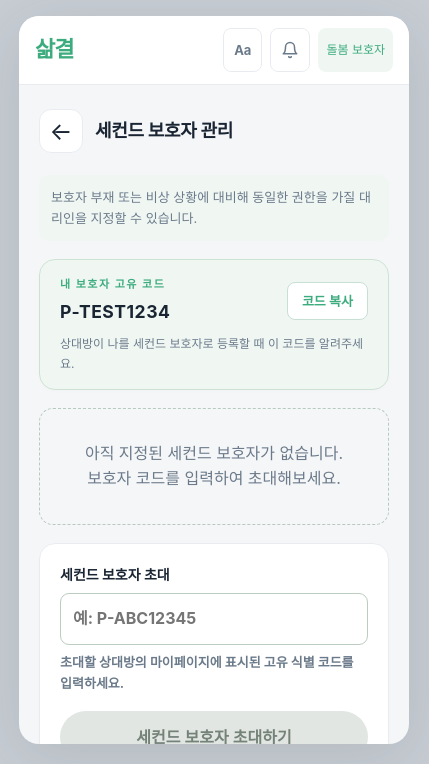
Test: SecondaryGuardianPage › 초대 API 실패 시 에러 알림을 노출한다
The image size is (429, 764).
Type "USR-NOTFOUND" into the field named "초대할 보호자 고유 식별 코드" at (214, 619), box [60,593,368,645]
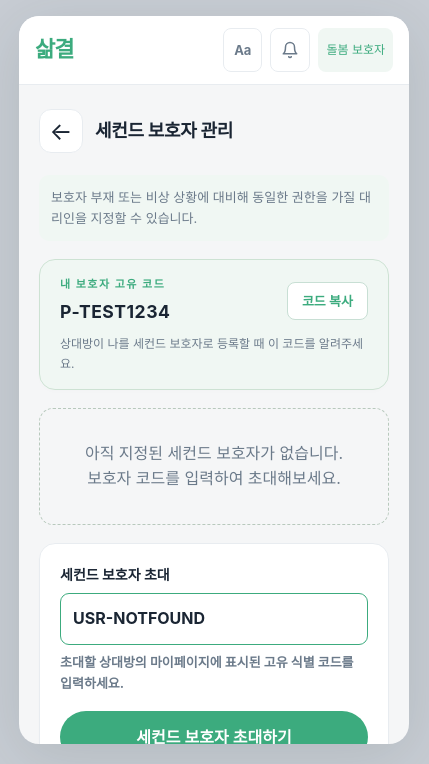
Click the button "세컨드 보호자 초대하기" at (214, 738), box [60,712,368,763]
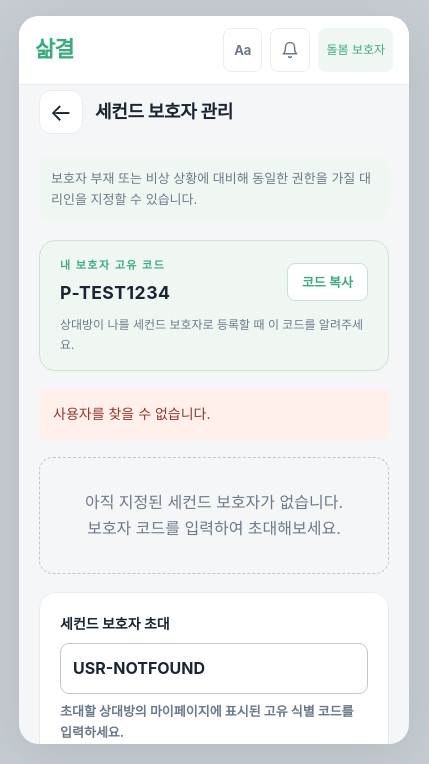
Result: the message reads "사용자를 찾을 수 없습니다." at [53,405,210,422]
